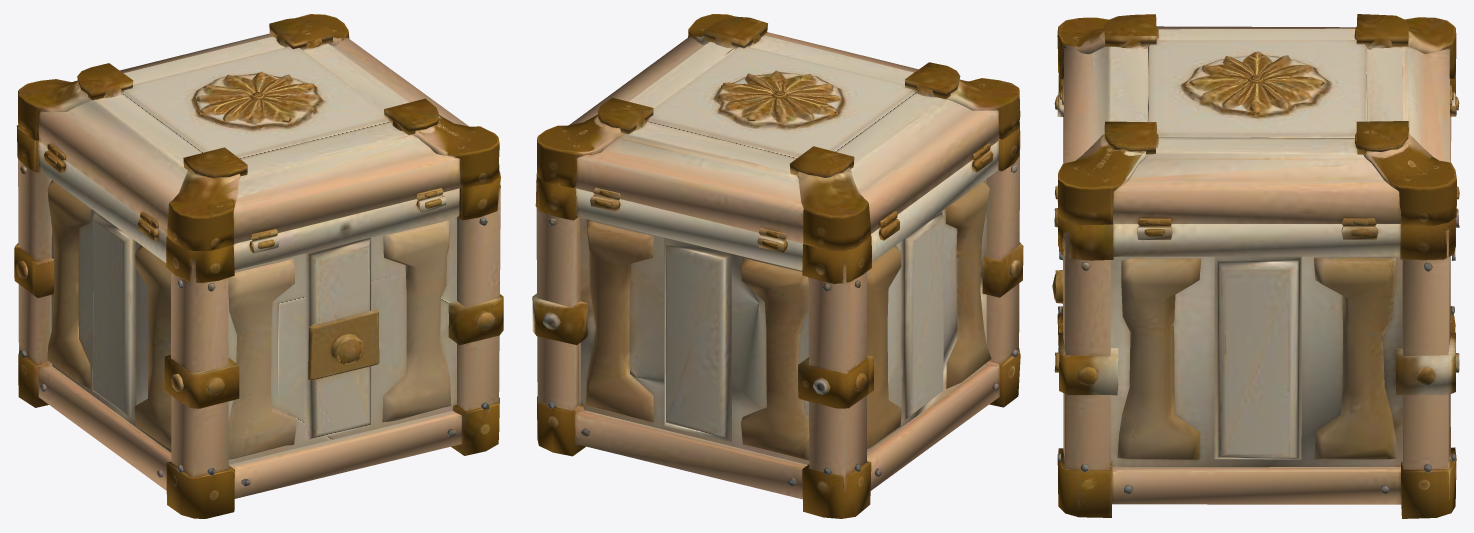
File: storage-chest.glb
The picture shows the model from 3 angles, left to right: view 1: azimuth 30°, elevation 25°; view 2: azimuth 150°, elevation 25°; view 3: azimuth 270°, elevation 25°; orthographic projection. The views are drawn at different scales.
Parts seen in each view (by area): view 1: storage-chest; view 2: storage-chest; view 3: storage-chest.
Part boxes in pixels (<box>): storage-chest: <box>14,14,503,518</box>; storage-chest: <box>532,14,1023,518</box>; storage-chest: <box>1052,14,1459,518</box>.
Bounding box in the file's own units: 0.9 × 0.8706 × 0.8991.
Materials: 1 (1 with a texture image).
